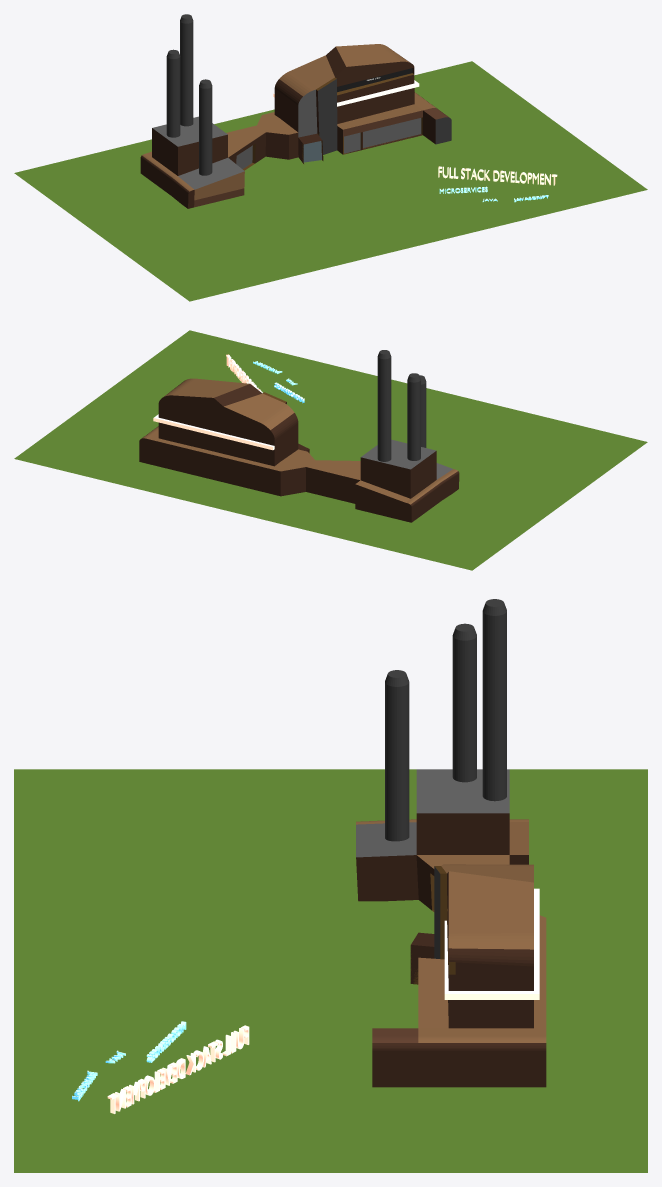
Rendered from forge-building.gltf.
The picture shows the model from 3 angles, top to bottom: view 1: azimuth 30°, elevation 25°; view 2: azimuth 150°, elevation 25°; view 3: azimuth 270°, elevation 25°; orthographic projection. The views are drawn at different scales.
Parts seen in each view (by area): view 1: Cube, full-stack-development, Cube.001; view 2: Cube, Cube.001; view 3: Cube, full-stack-development, Cube.001.
Boxes of the visible parts, x1,y1,x2,y2 form: Cube: (14, 14, 647, 301); full-stack-development: (438, 166, 557, 185); Cube.001: (273, 80, 419, 106); Cube: (14, 330, 647, 570); Cube.001: (153, 414, 274, 450); Cube: (14, 599, 647, 1172); full-stack-development: (107, 1025, 249, 1113); Cube.001: (444, 888, 539, 999).
Size of the model in its own units: 78.29 by 25.66 by 51.98.
3 materials, 1 textured.
